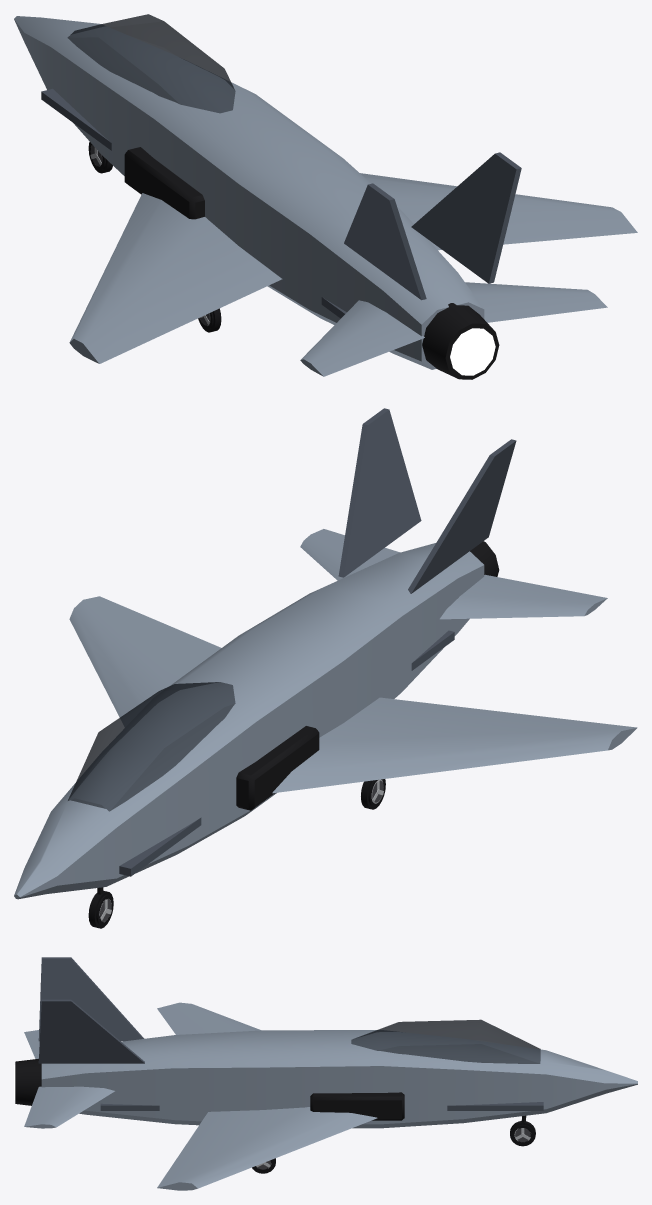
File: jet.glb
3 renders of one model, top to bottom at view 1: azimuth 30°, elevation 25°; view 2: azimuth 150°, elevation 25°; view 3: azimuth 270°, elevation 25°, orthographic. The views are drawn at different scales.
Visible parts, largest first — view 1: Body.019; view 2: Body.019, Wheel_G0.001; view 3: Body.019, Wheel_G0.001.
Part boxes in pixels (x1=…): Body.019: x1=14, y1=14, x2=637, y2=379; Body.019: x1=14, y1=408, x2=637, y2=899; Wheel_G0.001: x1=88, y1=890, x2=113, y2=928; Body.019: x1=14, y1=957, x2=637, y2=1190; Wheel_G0.001: x1=510, y1=1121, x2=535, y2=1146.
Size of the model in its own units: 7.2 by 3.12 by 10.57.
